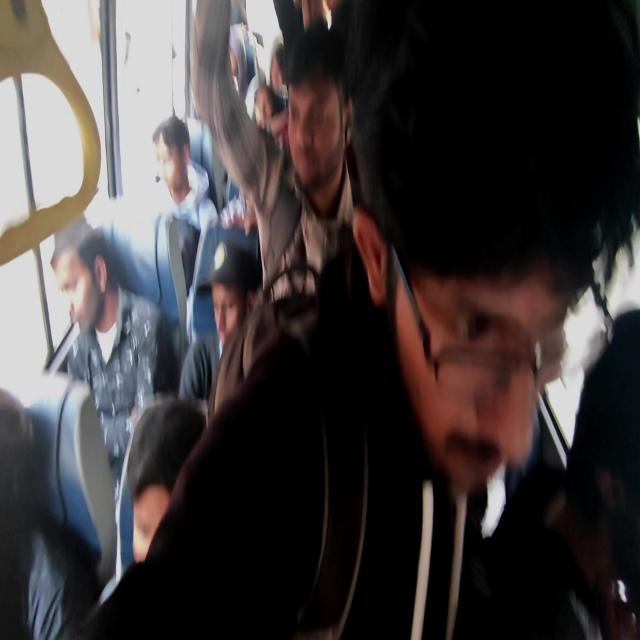person: (74, 1, 638, 637), (189, 0, 357, 309), (50, 216, 179, 581), (557, 306, 639, 638), (178, 238, 262, 418), (126, 397, 207, 565), (151, 114, 219, 235)
